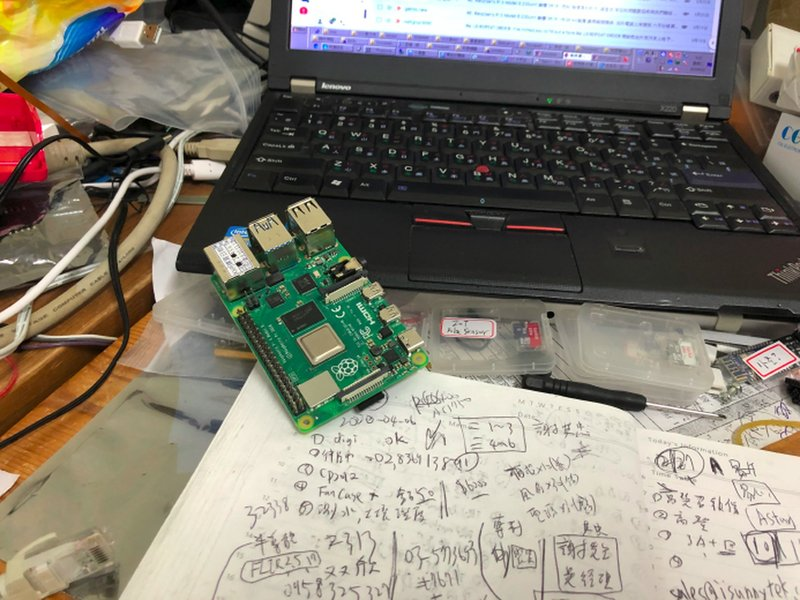pi: (190, 196, 434, 438)
